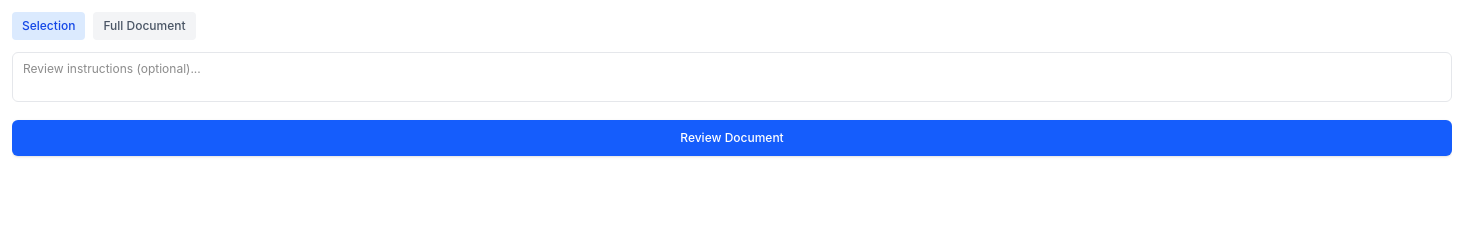
Test: ReviewPanel — free-tier review › saves to local history on free-tier review
Click the button "Review Document": {"x": 732, "y": 138} [12,120,1452,156]
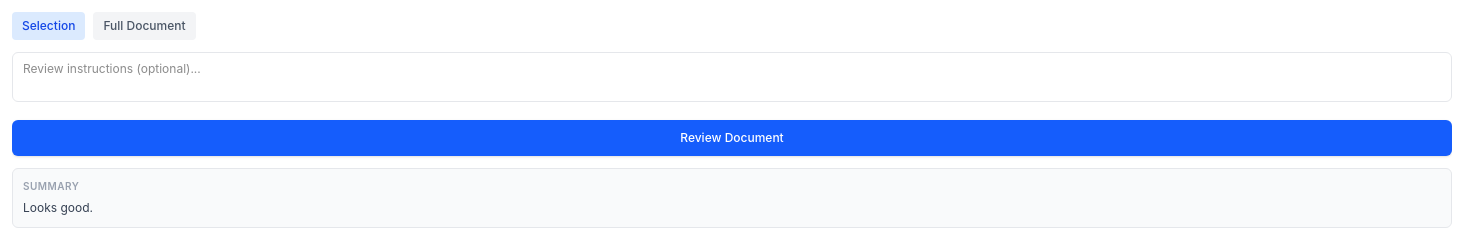
Check: the text "Looks good." is shown, box [23,200,93,214]
